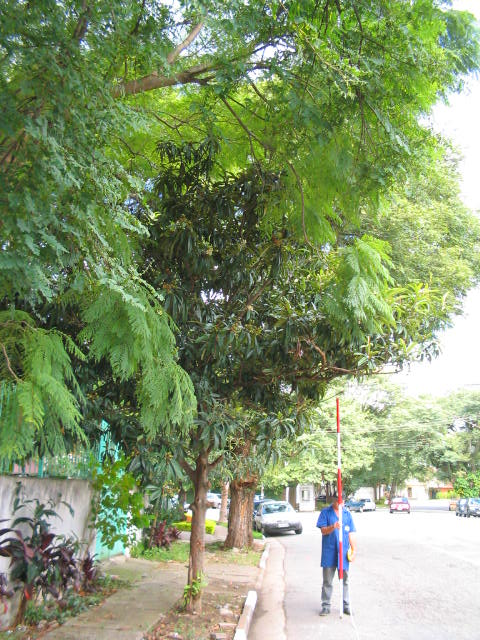stem: (213, 462, 272, 555), (174, 484, 216, 614)
stick: (330, 398, 347, 615)
